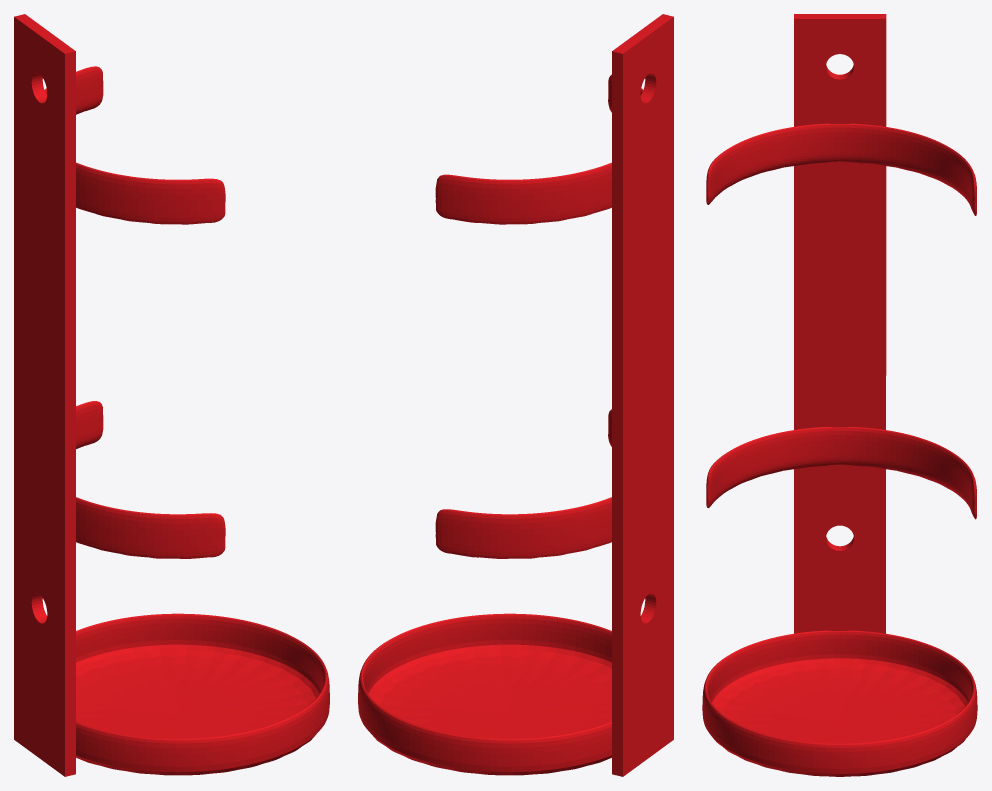
The model's file is extinguisher bracket.fbx.
3 views of the same model, side by side, from view 1: azimuth 30°, elevation 25°; view 2: azimuth 150°, elevation 25°; view 3: azimuth 270°, elevation 25° (orthographic). The views are drawn at different scales.
Visible parts, largest first — view 1: Cylinder; view 2: Cylinder; view 3: Cylinder.
Part boxes in pixels (x1,y1,x2,y2): Cylinder: [14, 14, 329, 776]; Cylinder: [358, 14, 673, 776]; Cylinder: [702, 14, 977, 776].
Size of the model in its own units: 36.34 by 92.95 by 35.36.
